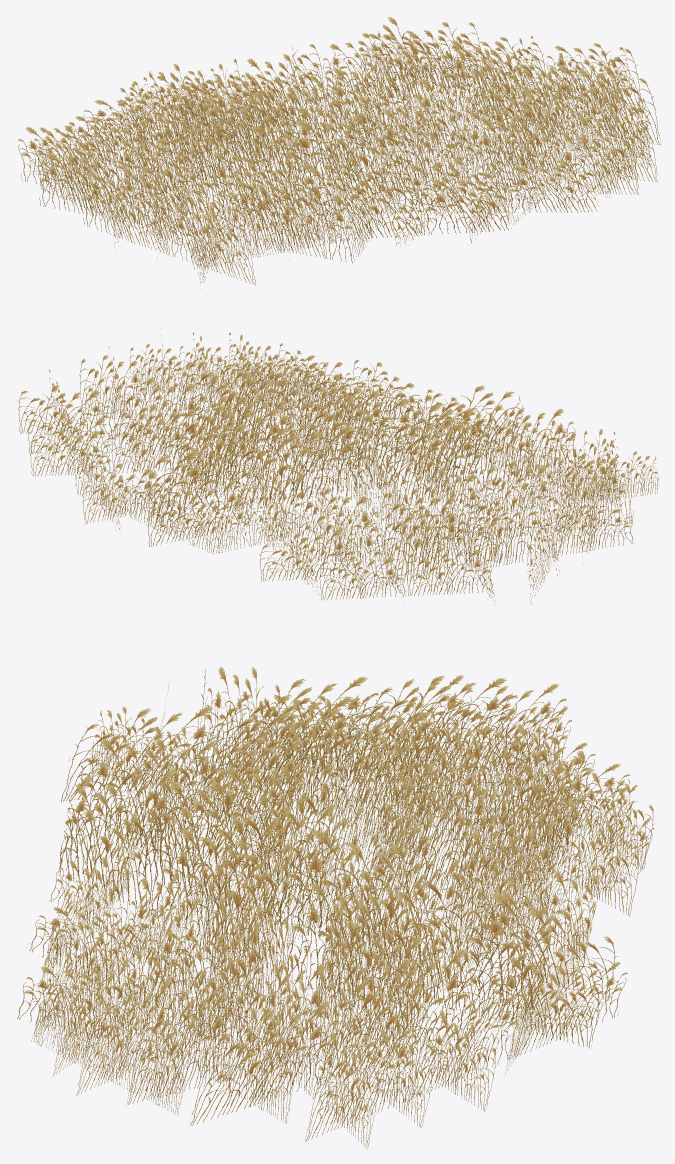
File: fw_cd_reeds_l.static.glb
3 renders of one model, top to bottom at view 1: azimuth 30°, elevation 25°; view 2: azimuth 150°, elevation 25°; view 3: azimuth 270°, elevation 25°, orthographic. The views are drawn at different scales.
Visible parts, largest first — view 1: W_cd_reeds_L; view 2: W_cd_reeds_L; view 3: W_cd_reeds_L.
Part boxes in pixels (<box>): W_cd_reeds_L: <box>18,17,660,285</box>; W_cd_reeds_L: <box>18,328,659,604</box>; W_cd_reeds_L: <box>17,666,654,1149</box>.
Bounding box in the file's own units: 15.41 × 2.21 × 10.44.
Materials: 1 (1 with a texture image).
